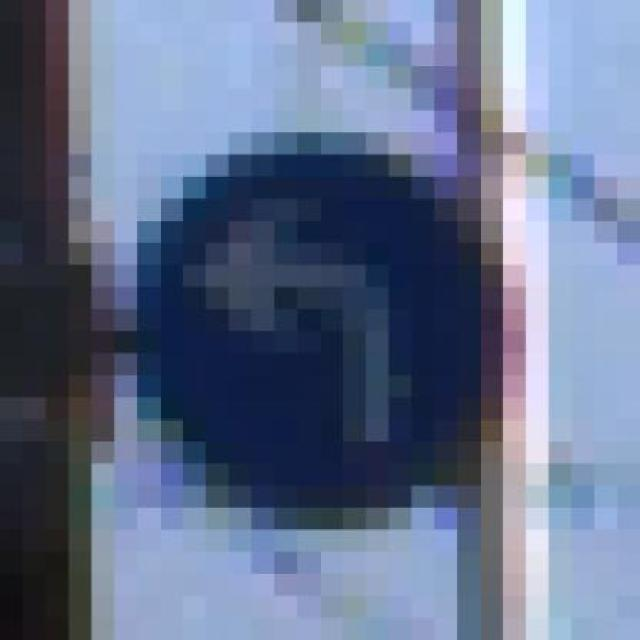Turn left ahead: (114, 110, 549, 552)
